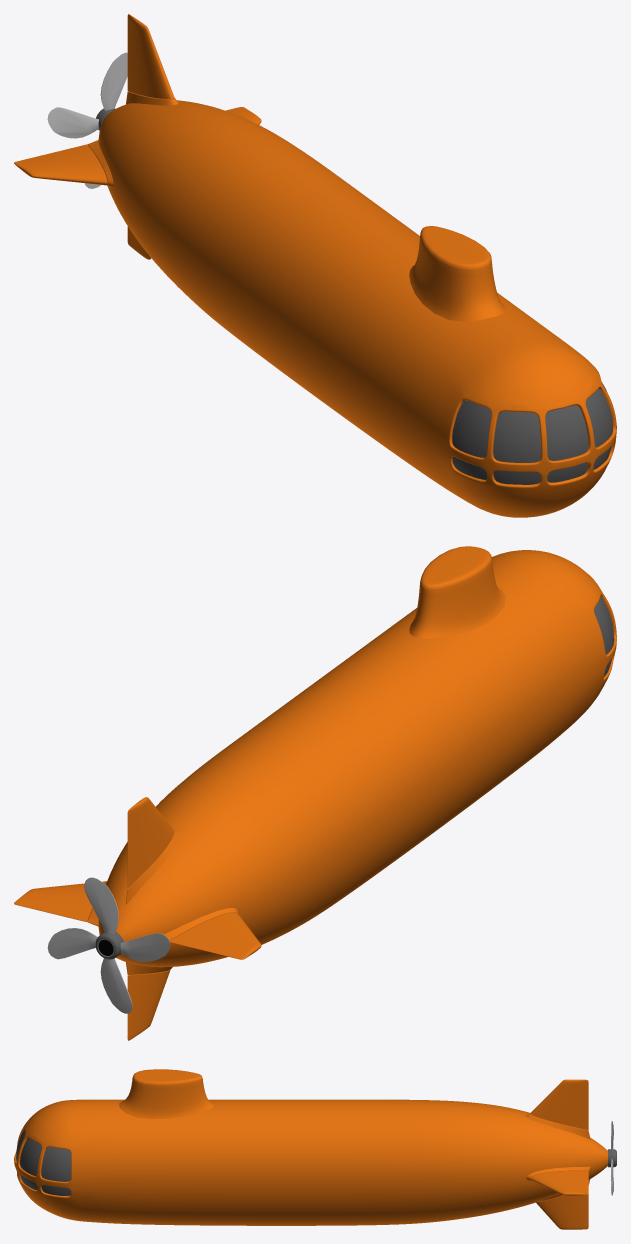
File: subplaceholder3.fbx
The picture shows the model from 3 angles, top to bottom: view 1: azimuth 30°, elevation 25°; view 2: azimuth 150°, elevation 25°; view 3: azimuth 270°, elevation 25°; orthographic projection. The views are drawn at different scales.
Parts seen in each view (by area): view 1: Sub, Cube.001, Sub.003, Propeller, Sub.002; view 2: Sub, Propeller, Sub.003, Sub.002, Sub.001, Sub.004, Cube.001; view 3: Sub, Cube.001, Sub.003, Sub.004, Sub.001, Propeller.
Part boxes in pixels (bbox=[...]): Sub: bbox=[87, 91, 616, 517]; Cube.001: bbox=[452, 382, 612, 484]; Sub.003: bbox=[127, 14, 174, 98]; Propeller: bbox=[47, 52, 127, 188]; Sub.002: bbox=[14, 144, 107, 185]; Sub: bbox=[88, 546, 616, 974]; Propeller: bbox=[47, 877, 170, 1013]; Sub.003: bbox=[127, 797, 174, 887]; Sub.002: bbox=[169, 912, 261, 959]; Sub.001: bbox=[14, 881, 106, 921]; Sub.004: bbox=[127, 969, 170, 1040]; Cube.001: bbox=[594, 597, 614, 676]; Sub: bbox=[14, 1069, 607, 1225]; Cube.001: bbox=[16, 1129, 71, 1195]; Sub.003: bbox=[530, 1079, 588, 1129]; Sub.004: bbox=[536, 1194, 588, 1229]; Sub.001: bbox=[530, 1171, 588, 1195]; Propeller: bbox=[608, 1121, 616, 1195].
Bounding box in the file's own units: 534 × 527 × 1873.
